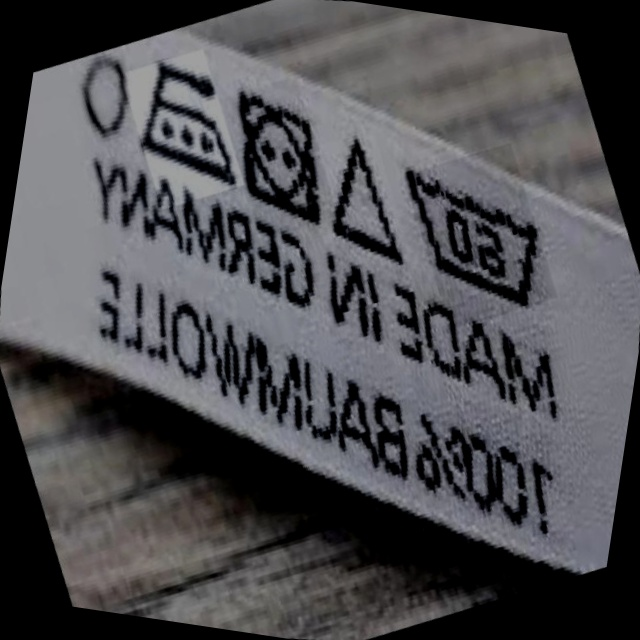60C: (384, 149, 570, 317)
bleach: (314, 126, 416, 271)
iron_high: (123, 46, 251, 195)
tumble_dry_medium: (221, 78, 338, 228)
